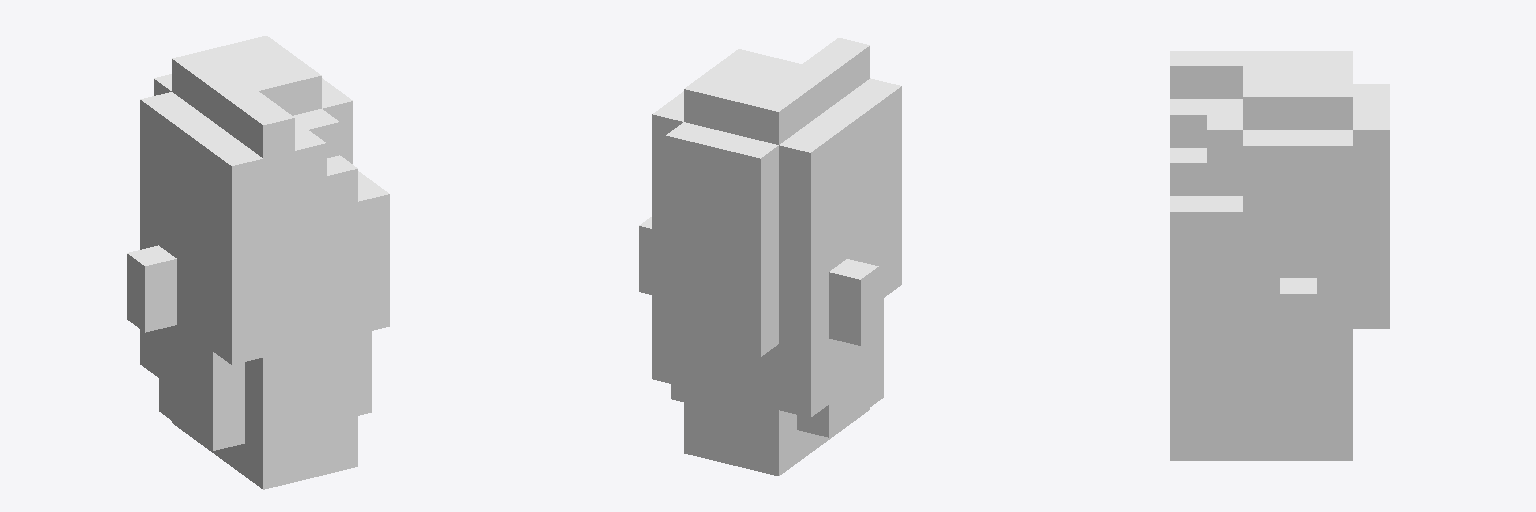
Rendered from Zed_2-1.obj.
3 views of the same model, side by side, from view 1: azimuth 30°, elevation 25°; view 2: azimuth 150°, elevation 25°; view 3: azimuth 270°, elevation 25° (orthographic).
Visible parts, largest first — view 1: object 1; view 2: object 1; view 3: object 1.
Part boxes in pixels (left/top/right/bottom): object 1: left=127, top=36, right=389, bottom=489; object 1: left=639, top=38, right=901, bottom=475; object 1: left=1170, top=51, right=1389, bottom=460.
Bounding box in the file's own units: 0.7 × 1.1 × 0.6.